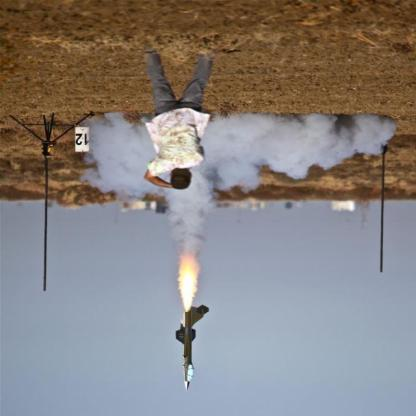MIL_TBM: (182, 299, 196, 392)
